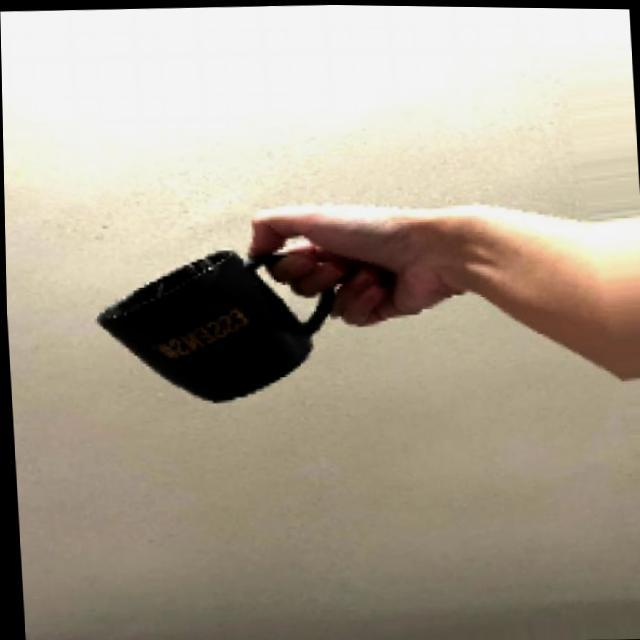cup: (78, 214, 142, 358)
